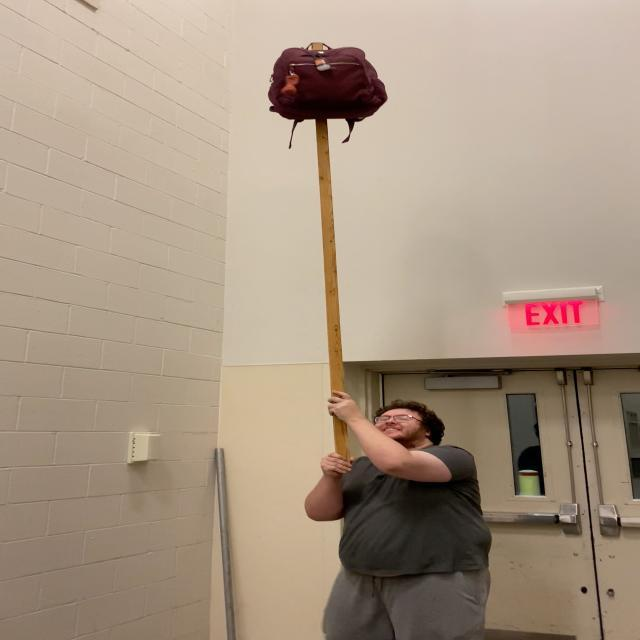Backpacks: (262, 40, 393, 129)
